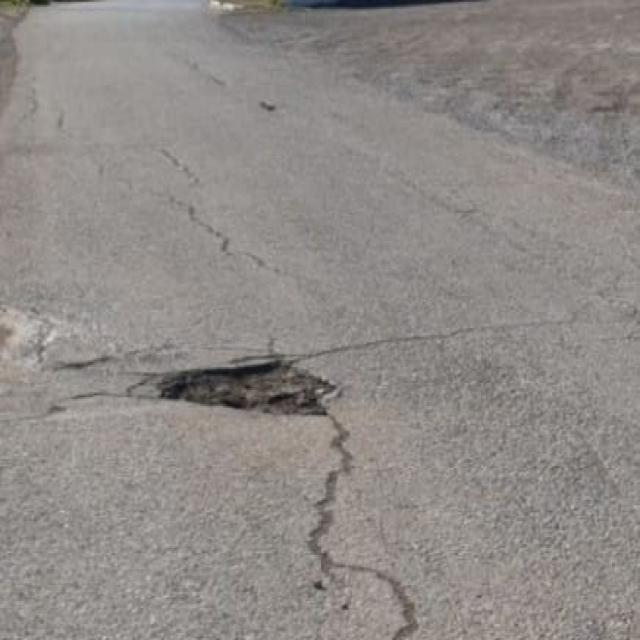major_pothole: (156, 342, 336, 422)
